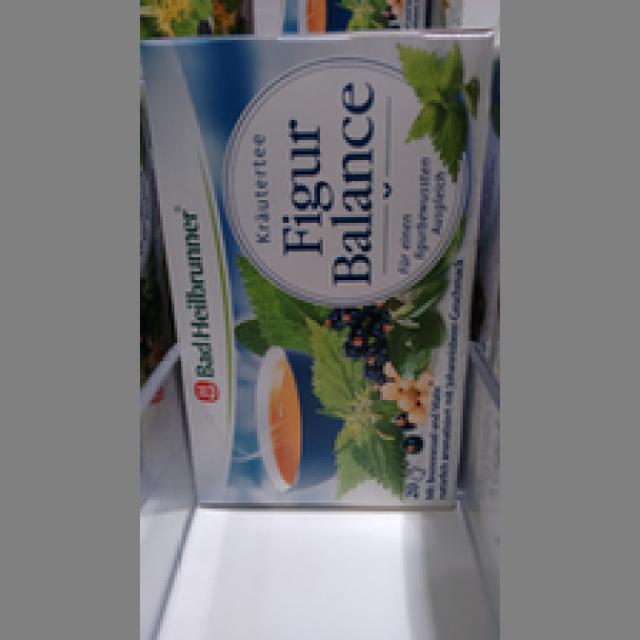groceries: (140, 20, 491, 511)
